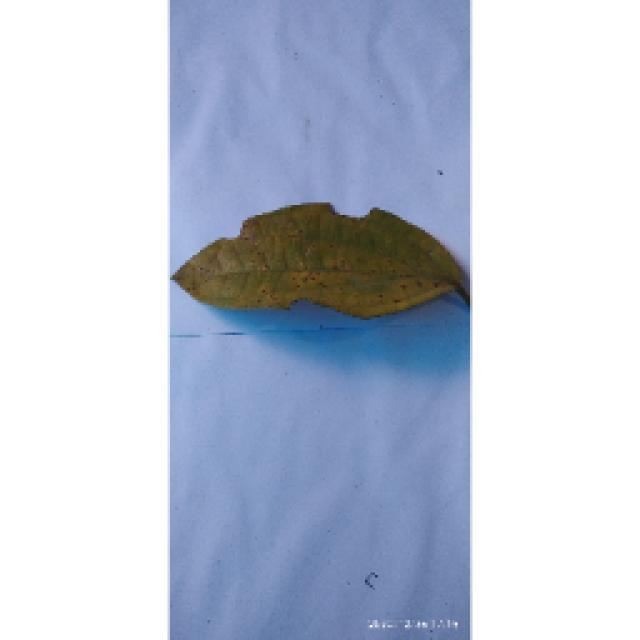slow-decline: (167, 198, 465, 322)
